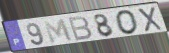8: (93, 13, 115, 38)
9: (26, 22, 45, 46)
B: (67, 15, 94, 42)
M: (42, 18, 75, 45)
O: (114, 9, 139, 36)
X: (136, 6, 165, 33)
